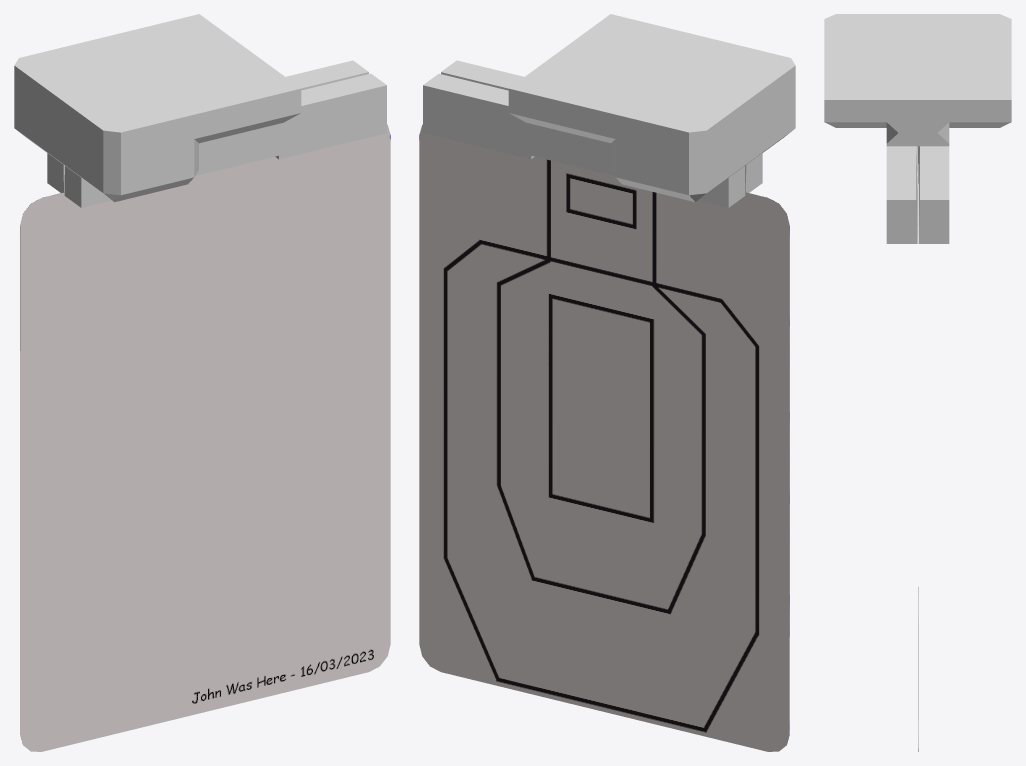
The model's file is Target.fbx.
3 views of the same model, side by side, from view 1: azimuth 30°, elevation 25°; view 2: azimuth 150°, elevation 25°; view 3: azimuth 270°, elevation 25° (orthographic). The views are drawn at different scales.
Visible parts, largest first — view 1: Target, TargetHolder; view 2: Target, TargetHolder; view 3: TargetHolder.
Boxes of the visible parts, left/top/right/bottom form: Target: left=20, top=124, right=390, bottom=751; TargetHolder: left=14, top=14, right=386, bottom=207; Target: left=419, top=124, right=789, bottom=751; TargetHolder: left=423, top=14, right=795, bottom=207; TargetHolder: left=824, top=14, right=1011, bottom=243.
Bounding box in the file's own units: 177 × 296 × 84.11.
Materials: 2 (1 with a texture image).
